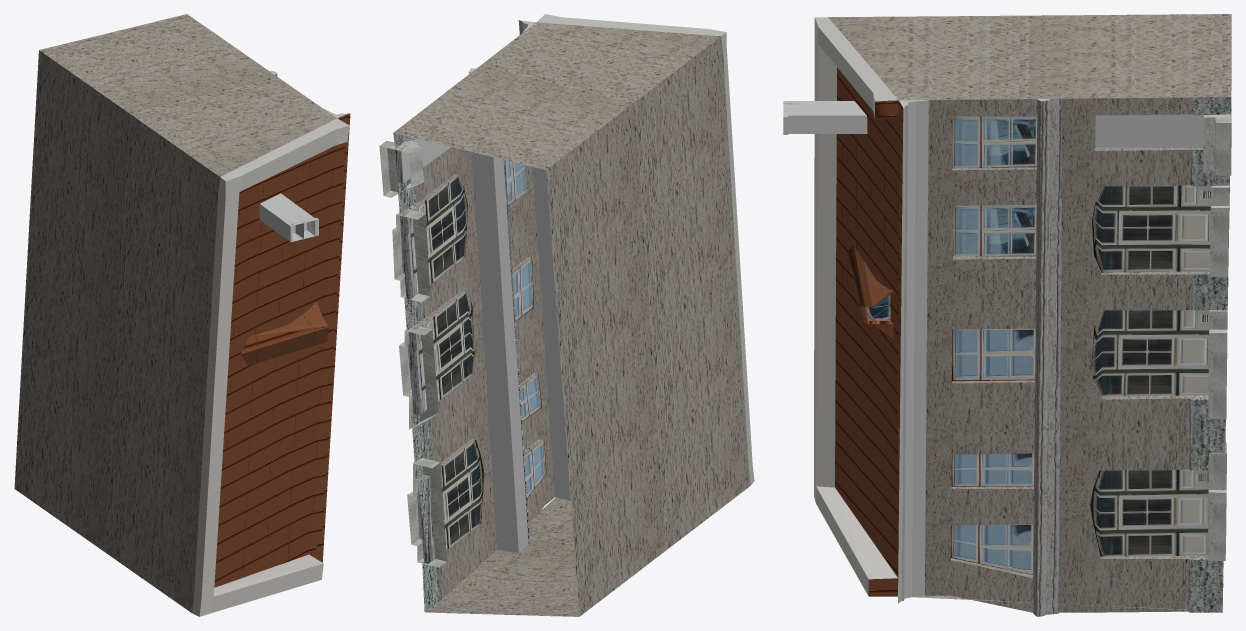
Rendered from Uus_31-origo.obj.
The picture shows the model from 3 angles, left to right: view 1: azimuth 30°, elevation 25°; view 2: azimuth 150°, elevation 25°; view 3: azimuth 270°, elevation 25°; orthographic projection. The views are drawn at different scales.
Parts seen in each view (by area): view 1: Uus_31; view 2: Uus_31; view 3: Uus_31.
Part boxes in pixels (x1,y1,x2,y2): Uus_31: (14,14,350,616); Uus_31: (379,14,754,616); Uus_31: (783,14,1231,616).
Size of the model in its own units: 6.5 by 14.5 by 11.11.
